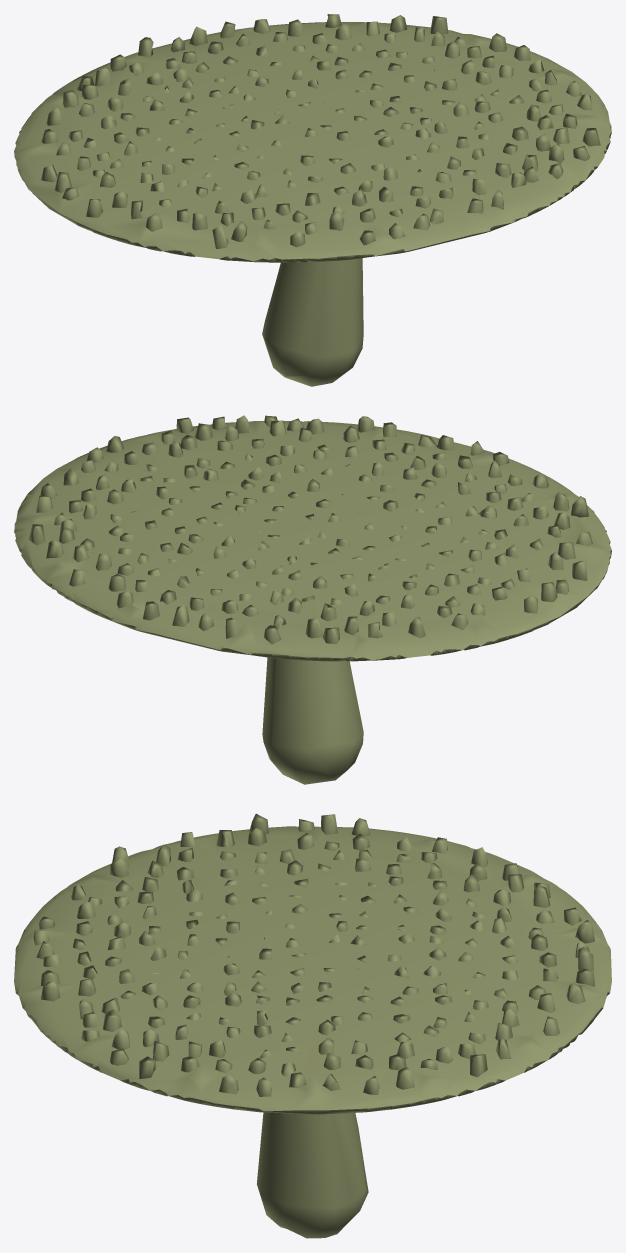
The model's file is table.glb.
3 views of the same model, one above another, from view 1: azimuth 30°, elevation 25°; view 2: azimuth 150°, elevation 25°; view 3: azimuth 270°, elevation 25° (orthographic). The views are drawn at different scales.
Visible parts, largest first — view 1: table, knobs1, knobs0; view 2: table, knobs1, knobs0; view 3: table, knobs1, knobs0.
Part boxes in pixels (x1,y1,x2,y2): table: [14, 22, 611, 386]; knobs1: [54, 14, 600, 231]; knobs0: [41, 15, 582, 249]; table: [14, 420, 611, 784]; knobs1: [40, 415, 592, 644]; knobs0: [28, 415, 588, 638]; table: [14, 826, 611, 1238]; knobs1: [73, 813, 595, 1094]; knobs0: [33, 818, 558, 1096].
Size of the model in its own units: 1.43 by 0.6862 by 1.27.
